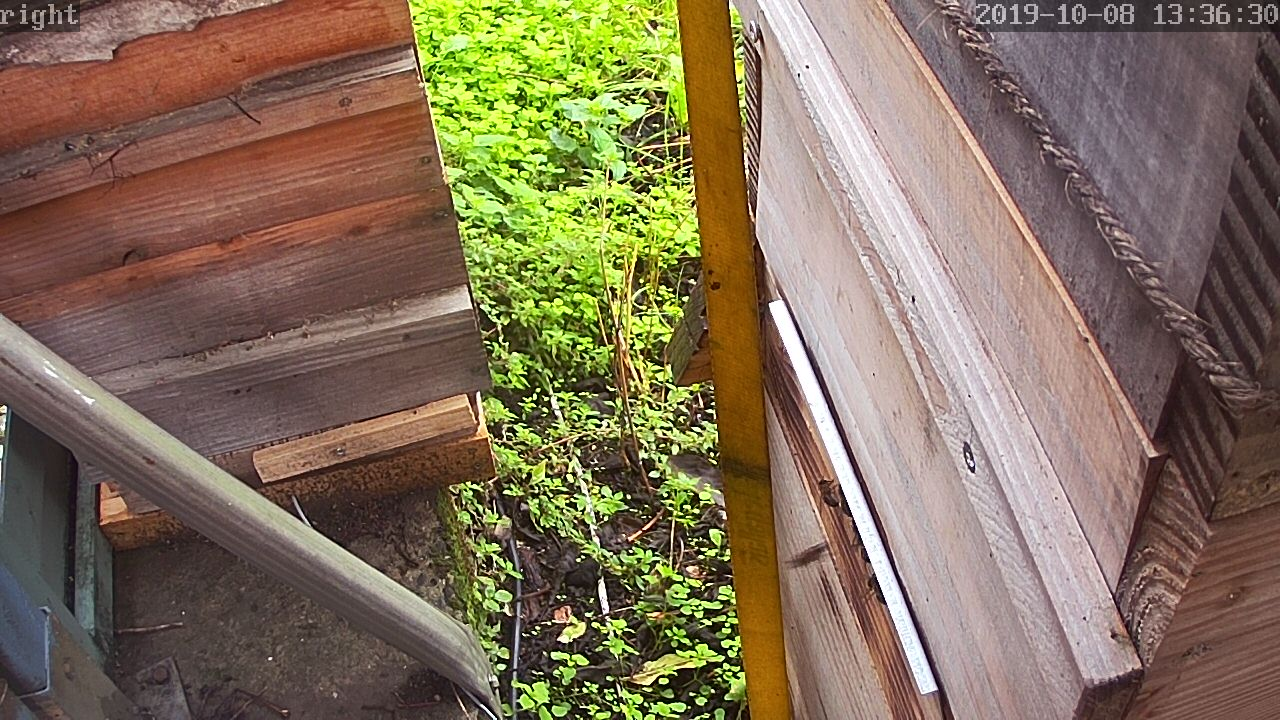bee: (837, 525, 882, 568), (813, 475, 853, 521), (785, 539, 833, 573), (858, 581, 885, 612)
